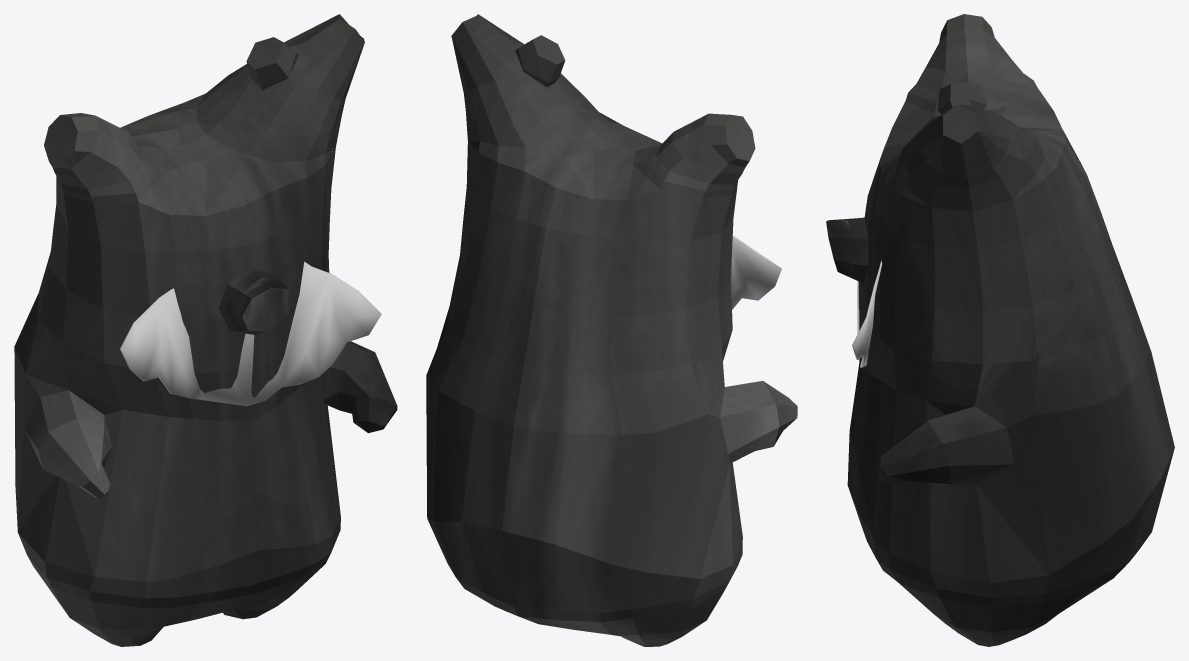
The model's file is frame_0008.obj.
3 views of the same model, side by side, from view 1: azimuth 30°, elevation 25°; view 2: azimuth 150°, elevation 25°; view 3: azimuth 270°, elevation 25° (orthographic). The views are drawn at different scales.
Visible parts, largest first — view 1: korok, leaf, nose; view 2: korok, leaf; view 3: korok, nose, leaf.
Part boxes in pixels (x1=…): korok: x1=14, y1=14, x2=397, y2=646; leaf: x1=120, y1=261, x2=381, y2=406; nose: x1=219, y1=270, x2=293, y2=334; korok: x1=426, y1=14, x2=797, y2=646; leaf: x1=731, y1=235, x2=781, y2=309; korok: x1=847, y1=14, x2=1174, y2=646; nose: x1=826, y1=217, x2=868, y2=282; leaf: x1=852, y1=203, x2=881, y2=367.
Bounding box in the file's own units: 1.36 × 2.25 × 1.24.
